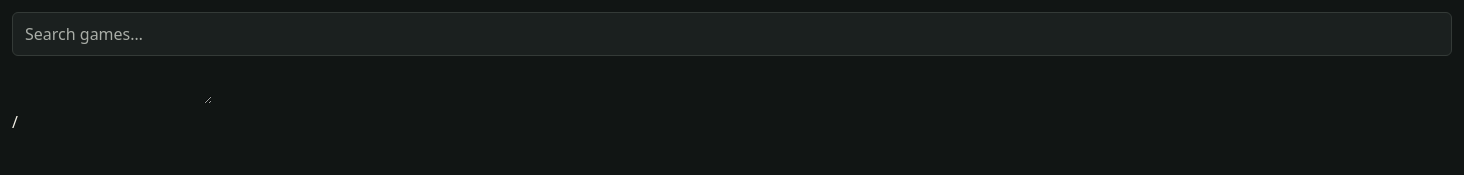
SearchBox › shows the empty state with a link to All Games
In the dropdown labelled "Search games": (732, 34) [12, 12, 1452, 56], type "zzz"
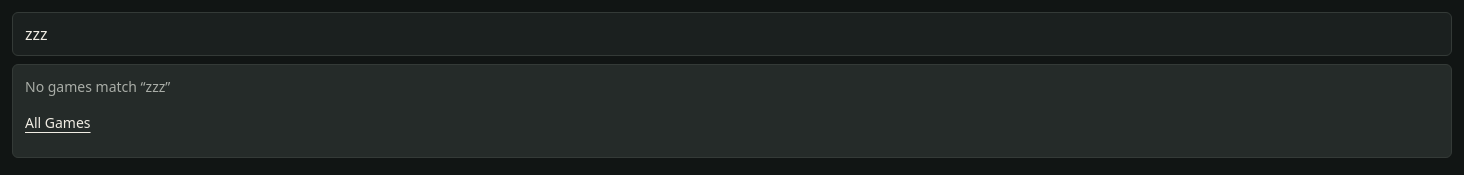
Now the text "No games match “zzz”" is shown, box [25, 77, 170, 96]
